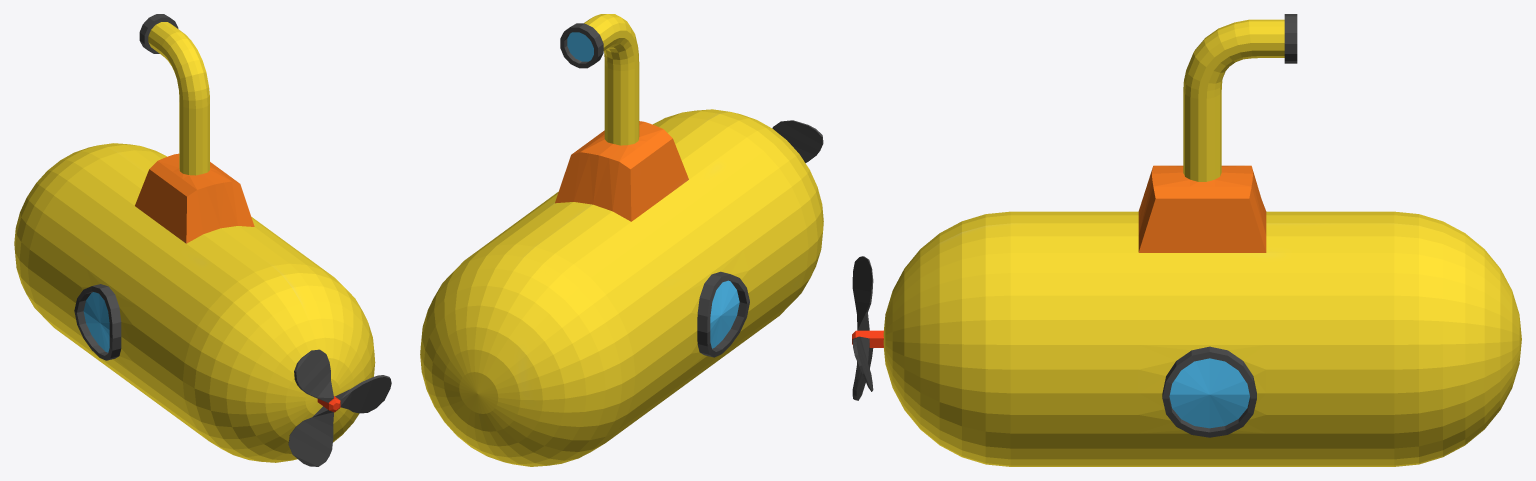
File: Submarine.fbx
3 renders of one model, left to right at view 1: azimuth 30°, elevation 25°; view 2: azimuth 150°, elevation 25°; view 3: azimuth 270°, elevation 25°, orthographic. The views are drawn at different scales.
Parts seen in each view (by area): view 1: Submarine, Propeller; view 2: Submarine, Propeller; view 3: Submarine, Propeller.
Boxes of the visible parts, x1,y1,x2,y2 form: Submarine: (14, 14, 375, 462); Propeller: (288, 349, 391, 466); Submarine: (420, 14, 823, 466); Propeller: (772, 120, 823, 162); Submarine: (883, 14, 1521, 466); Propeller: (852, 256, 883, 400).
Bounding box in the file's own units: 220 × 379 × 524.
